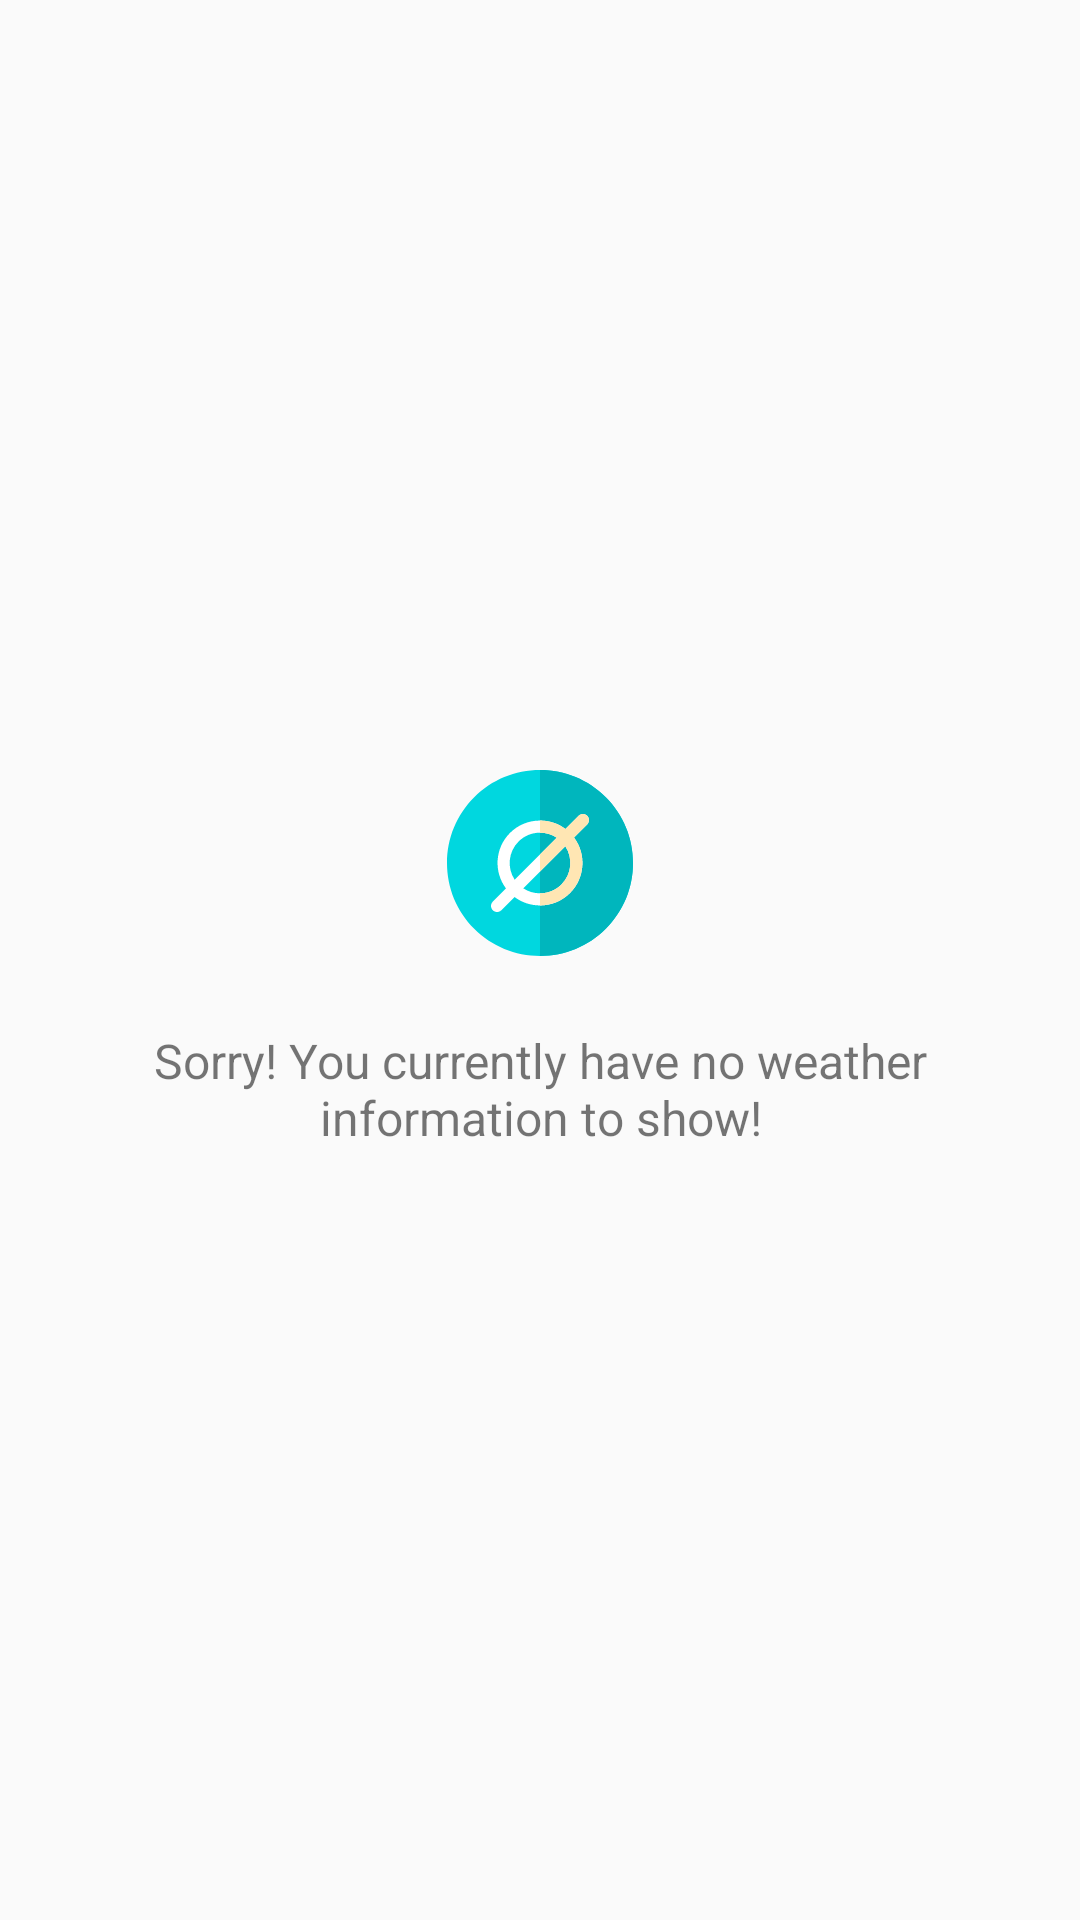

Named icons in this screenshot (1080w x 1920h) and their centers, point (x, y):
empty set: point (540, 863)
